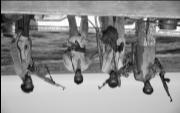gun: (28, 66, 66, 88), (158, 70, 172, 102), (62, 40, 87, 52)
